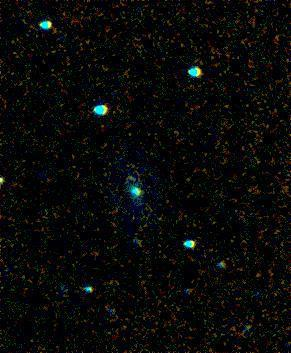star: (116, 162, 146, 192)
